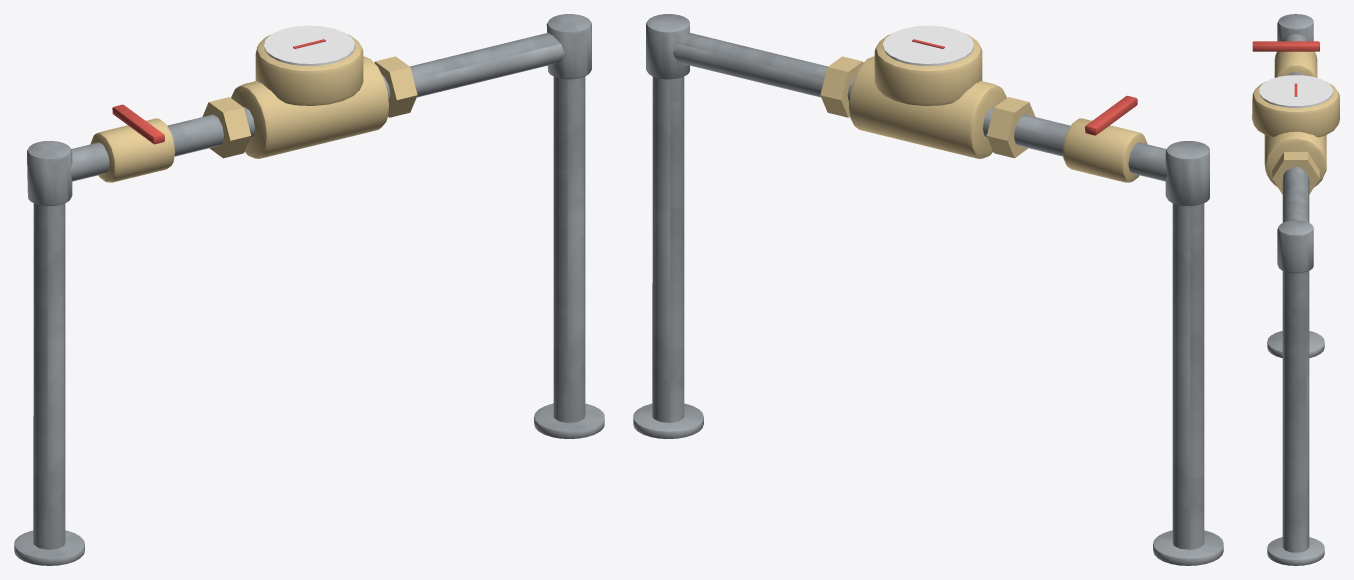
File: HID-BOM-004_lod1.glb
3 views of the same model, side by side, from view 1: azimuth 30°, elevation 25°; view 2: azimuth 150°, elevation 25°; view 3: azimuth 270°, elevation 25° (orthographic). The views are drawn at different scales.
Parts seen in each view (by area): view 1: HID-BOM-004_desce, HID-BOM-004_sobe, HID-BOM-004_corpo, HID-BOM-004_h2, HID-BOM-004_relojoaria, HID-BOM-004_registro, HID-BOM-004_h1, HID-BOM-004_mostrador, HID-BOM-004_joelho-1, HID-BOM-004_joelho1, HID-BOM-004_porca-1, HID-BOM-004_base1 (+3 smaller); view 2: HID-BOM-004_desce, HID-BOM-004_sobe, HID-BOM-004_corpo, HID-BOM-004_h2, HID-BOM-004_relojoaria, HID-BOM-004_registro, HID-BOM-004_h1, HID-BOM-004_mostrador, HID-BOM-004_joelho-1, HID-BOM-004_joelho1, HID-BOM-004_porca-1, HID-BOM-004_base1 (+3 smaller); view 3: HID-BOM-004_desce, HID-BOM-004_relojoaria, HID-BOM-004_mostrador, HID-BOM-004_joelho1, HID-BOM-004_corpo, HID-BOM-004_h2, HID-BOM-004_base1, HID-BOM-004_registro, HID-BOM-004_porca1, HID-BOM-004_joelho-1, HID-BOM-004_borboleta, HID-BOM-004_base-1 (+1 smaller).
Boxes of the visible parts, x1,y1,x2,y2 form: HID-BOM-004_desce: (553,76,585,422); HID-BOM-004_sobe: (33,203,65,549); HID-BOM-004_corpo: (231,56,388,158); HID-BOM-004_h2: (382,32,564,102); HID-BOM-004_relojoaria: (255,34,363,105); HID-BOM-004_registro: (90,118,175,182); HID-BOM-004_h1: (70,107,254,181); HID-BOM-004_mostrador: (264,25,354,65); HID-BOM-004_joelho-1: (27,141,72,206); HID-BOM-004_joelho1: (546,14,591,79); HID-BOM-004_porca-1: (202,97,251,158); HID-BOM-004_base1: (534,403,604,438); HID-BOM-004_desce: (652,76,684,422); HID-BOM-004_sobe: (1172,203,1204,549); HID-BOM-004_corpo: (849,56,1006,158); HID-BOM-004_h2: (673,32,855,102); HID-BOM-004_relojoaria: (874,34,982,105); HID-BOM-004_registro: (1063,118,1147,182); HID-BOM-004_h1: (983,107,1167,181); HID-BOM-004_mostrador: (883,25,973,65); HID-BOM-004_joelho-1: (1165,141,1209,206); HID-BOM-004_joelho1: (646,14,689,79); HID-BOM-004_porca-1: (986,97,1035,158); HID-BOM-004_base1: (633,403,703,438); HID-BOM-004_desce: (1282,271,1309,552); HID-BOM-004_relojoaria: (1252,81,1339,137); HID-BOM-004_mostrador: (1259,75,1332,107); HID-BOM-004_joelho1: (1277,220,1313,273); HID-BOM-004_corpo: (1264,131,1326,187); HID-BOM-004_h2: (1282,166,1309,222); HID-BOM-004_base1: (1267,537,1324,565); HID-BOM-004_registro: (1274,51,1317,77); HID-BOM-004_porca1: (1272,152,1319,194); HID-BOM-004_joelho-1: (1277,14,1313,41); HID-BOM-004_borboleta: (1252,41,1319,51); HID-BOM-004_base-1: (1267,331,1324,357).
Size of the model in its own units: 0.5588 by 0.4086 by 0.09.
Materials: 4 (1 with a texture image).
